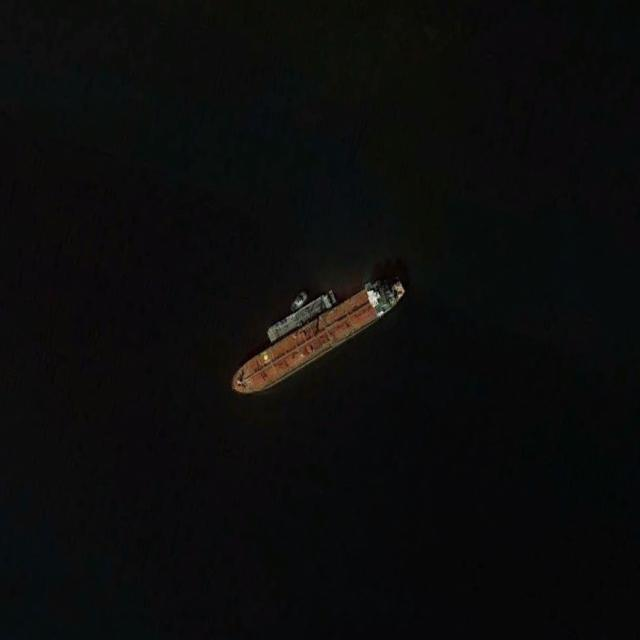ship: (229, 273, 406, 397)
